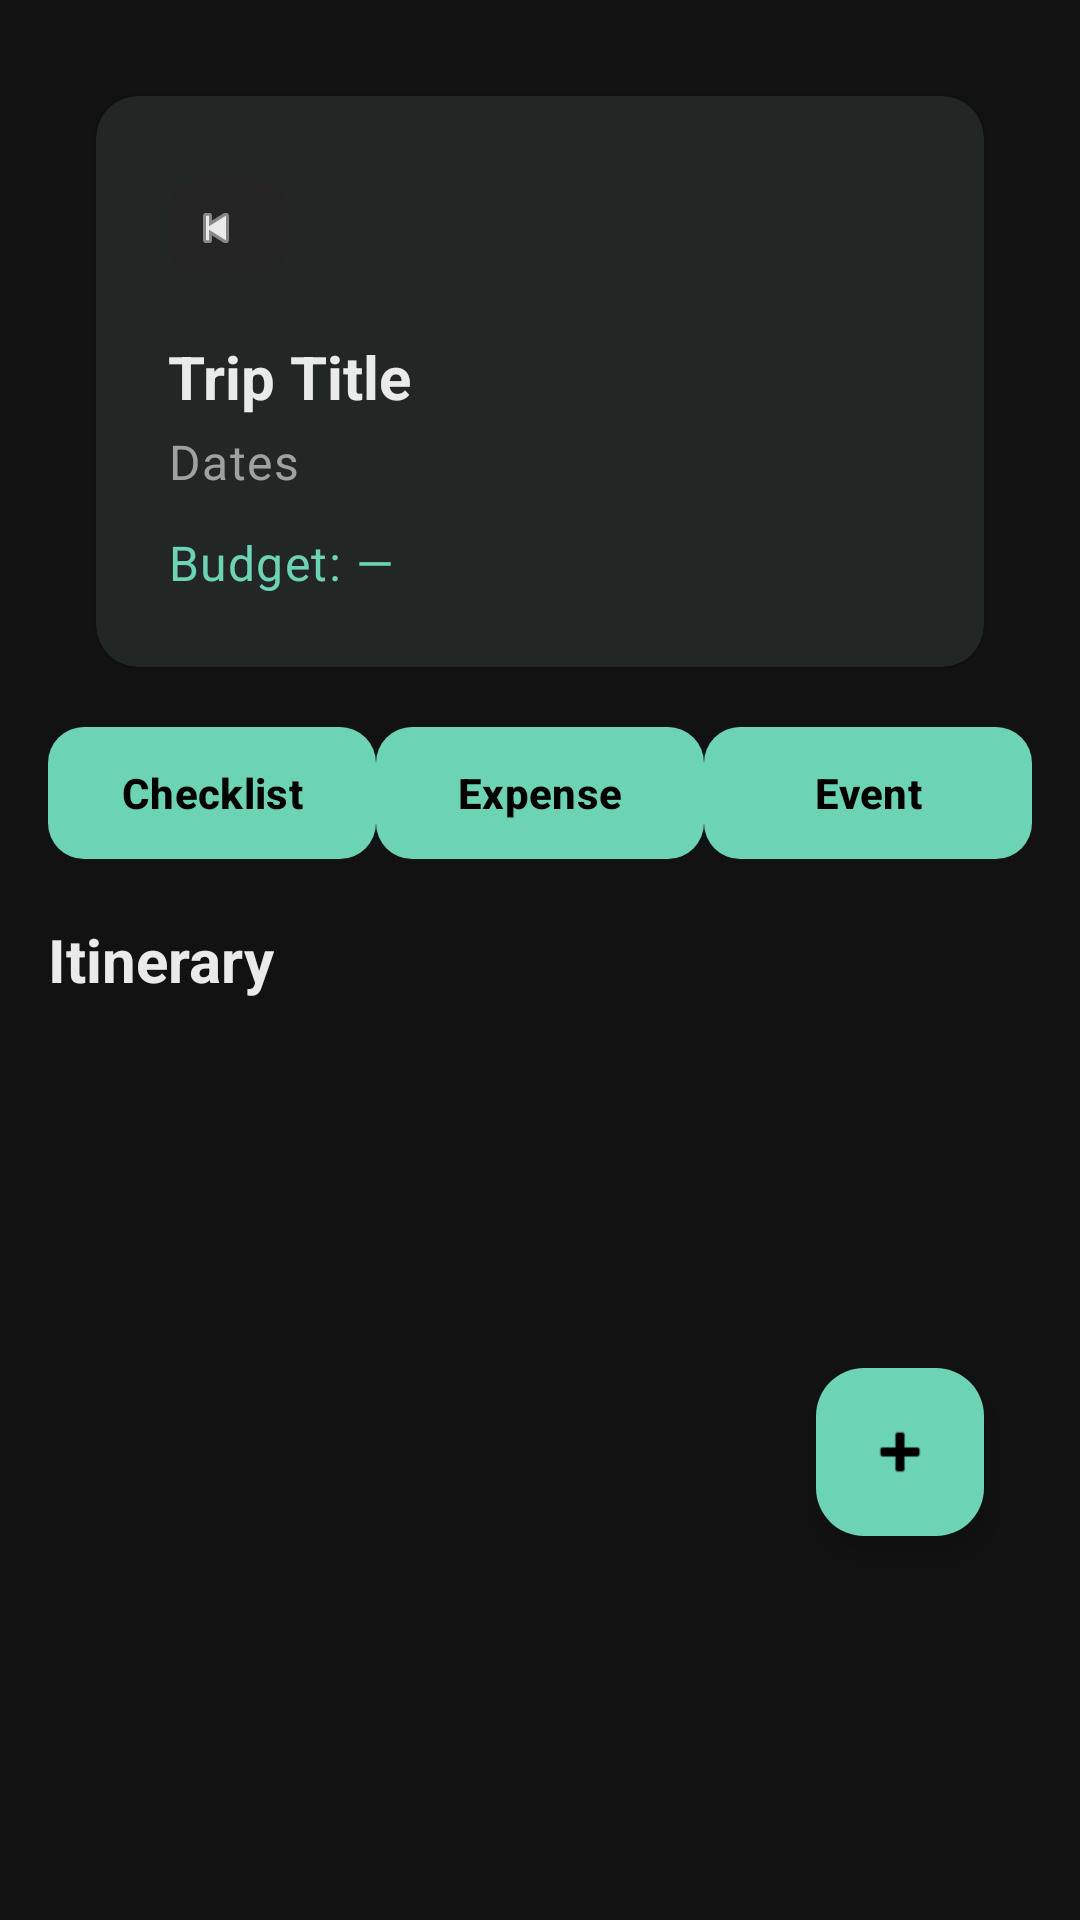

Where to tap for icons on this 1080*1920 app screen, as point (x, y):
add: point (900, 1452)
previous: point (216, 228)
